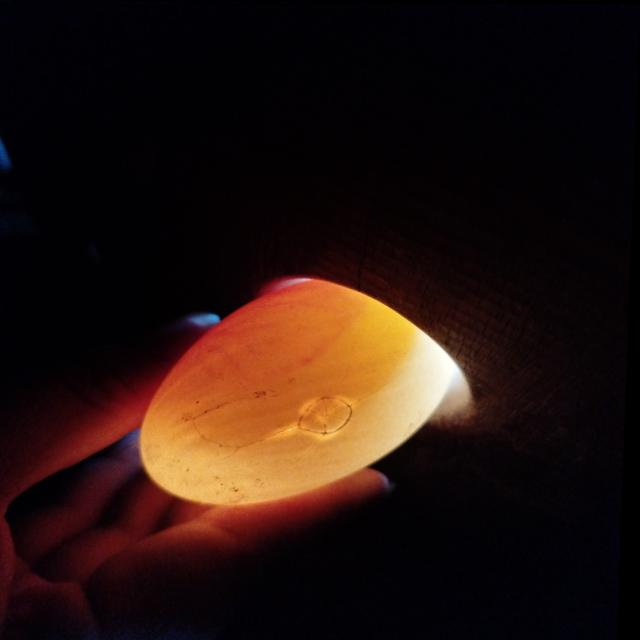Rachadura: (301, 397, 354, 433)
